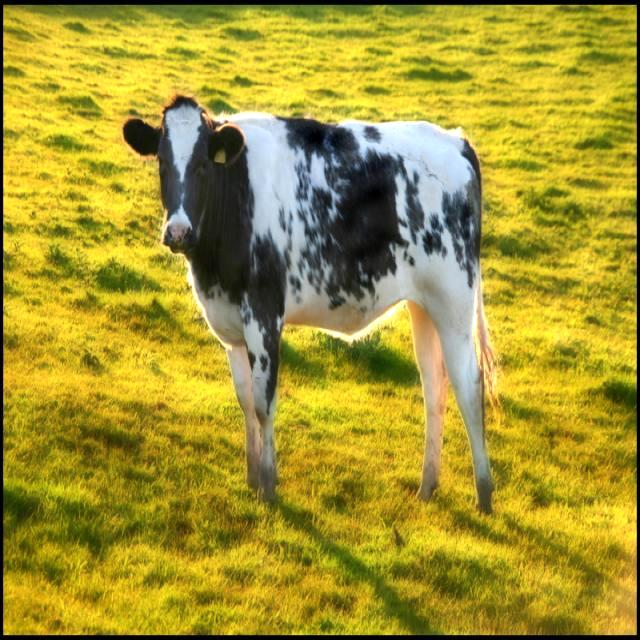COW: (124, 96, 494, 511)
